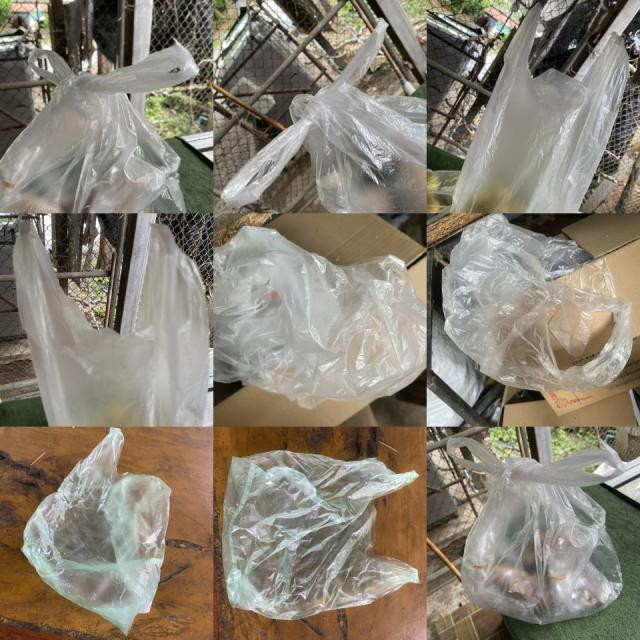Single-layer Plastic: (14, 221, 209, 426), (221, 20, 426, 212), (214, 225, 425, 406), (451, 5, 629, 212), (0, 42, 199, 212), (442, 214, 632, 391), (222, 450, 419, 619), (446, 439, 624, 624), (21, 428, 171, 633)
